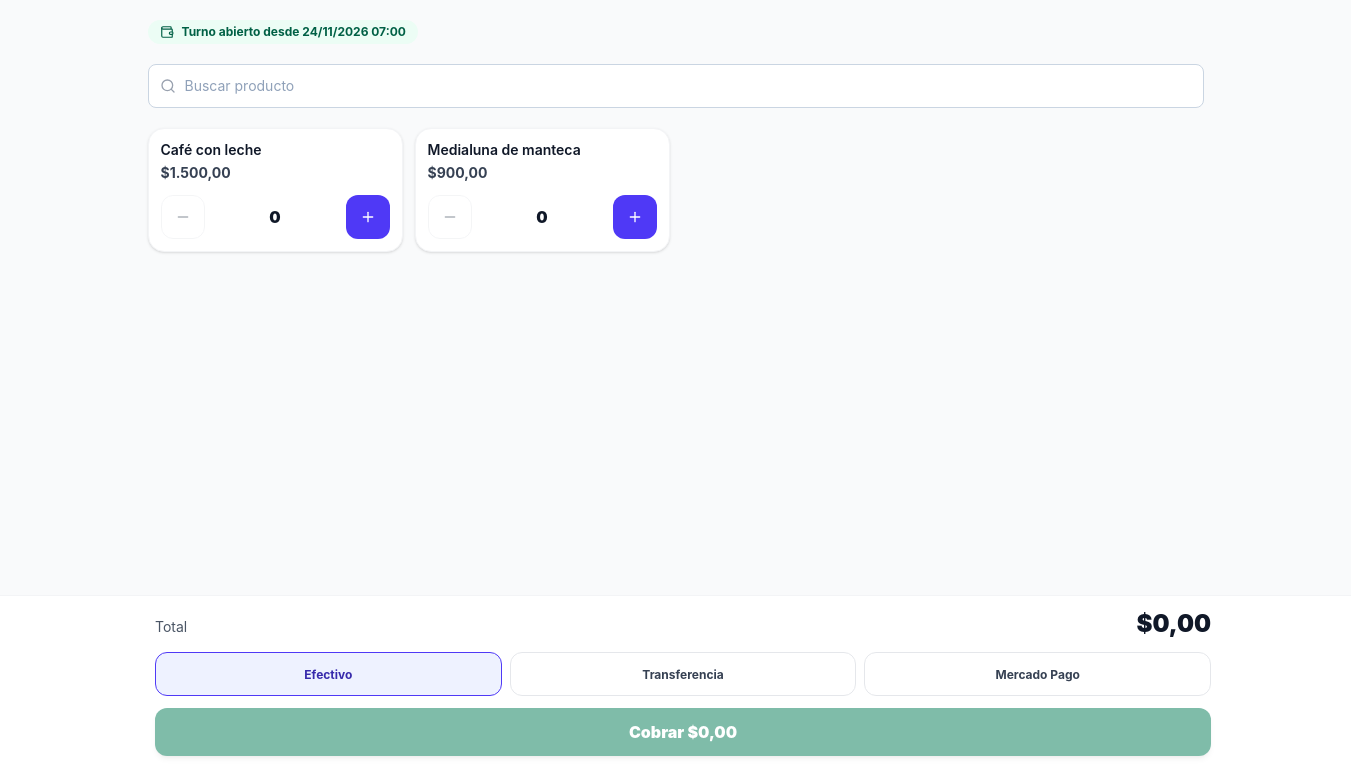
Scenario: Nueva venta (/ventas/nueva) › Escenario "Sin turno abierto": con 409 ofrece abrir el turno y no sale de la pantalla
Expected: the text "Café con leche" is shown, 160,141 -> 262,158
Click the button named "Agregar una unidad": (368, 216) 346,194 -> 390,238
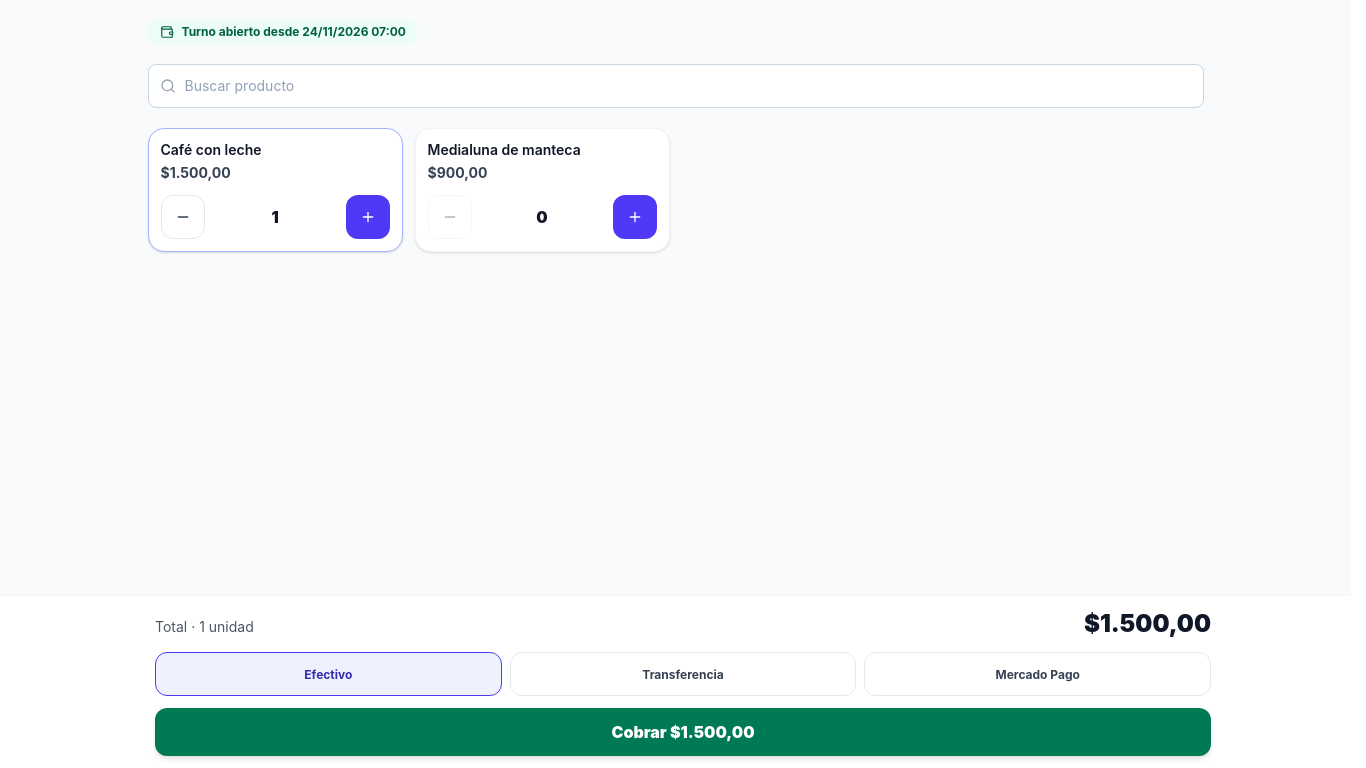
Click the button "Cobrar $1.500,00": (683, 732) 155,708 -> 1211,756
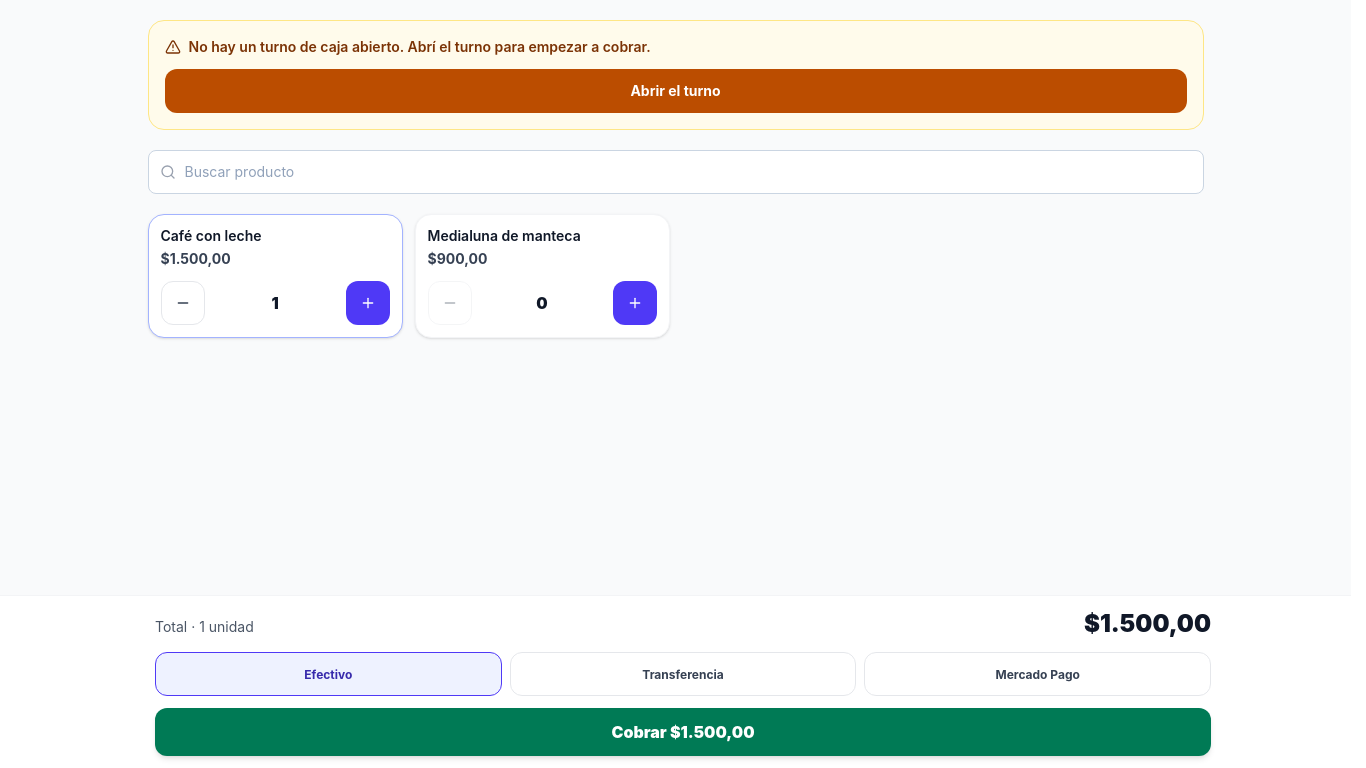
Expected: the text with test id "sale-total" reads "$1.500,00", 1084,609 -> 1211,638
Expected: the message shows "No hay un turno de caja abierto", 188,38 -> 651,55
